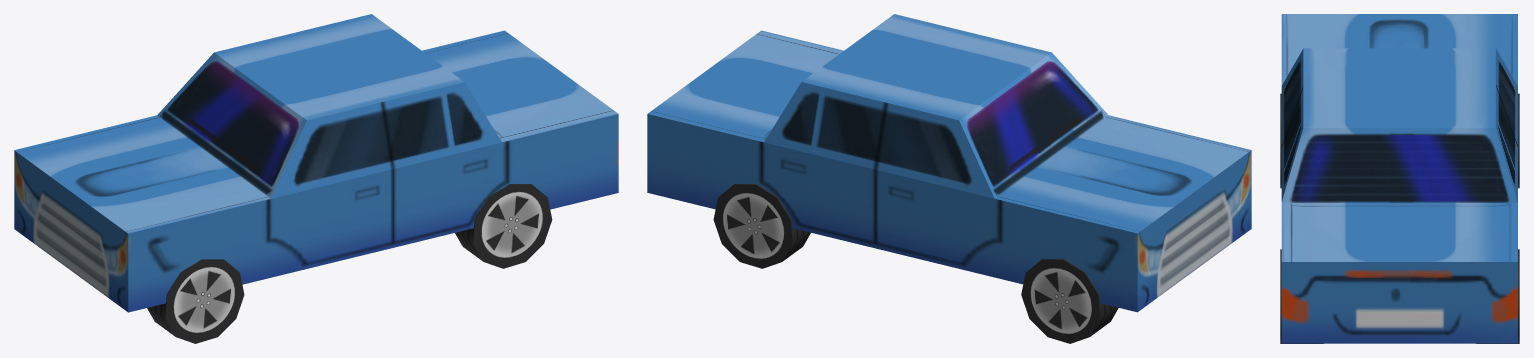
File: avto.FBX
3 views of the same model, side by side, from view 1: azimuth 30°, elevation 25°; view 2: azimuth 150°, elevation 25°; view 3: azimuth 270°, elevation 25° (orthographic). The views are drawn at different scales.
Visible parts, largest first — view 1: car, Cylinder011, Cylinder015; view 2: car, Cylinder016, Cylinder017; view 3: car, Cylinder015, Cylinder016, Cylinder011, Cylinder017.
Part boxes in pixels (<box>): car: <box>14,14,618,312</box>; Cylinder011: <box>147,259,244,343</box>; Cylinder015: <box>455,184,552,268</box>; car: <box>647,14,1251,312</box>; Cylinder016: <box>713,184,810,268</box>; Cylinder017: <box>1021,259,1118,343</box>; car: <box>1281,14,1517,343</box>; Cylinder015: <box>1280,249,1323,343</box>; Cylinder016: <box>1476,249,1519,343</box>; Cylinder011: <box>1280,93,1281,188</box>; Cylinder017: <box>1518,93,1519,188</box>.
Size of the model in its own units: 3.1 by 1.12 by 1.26.
2 materials, 2 textured.
